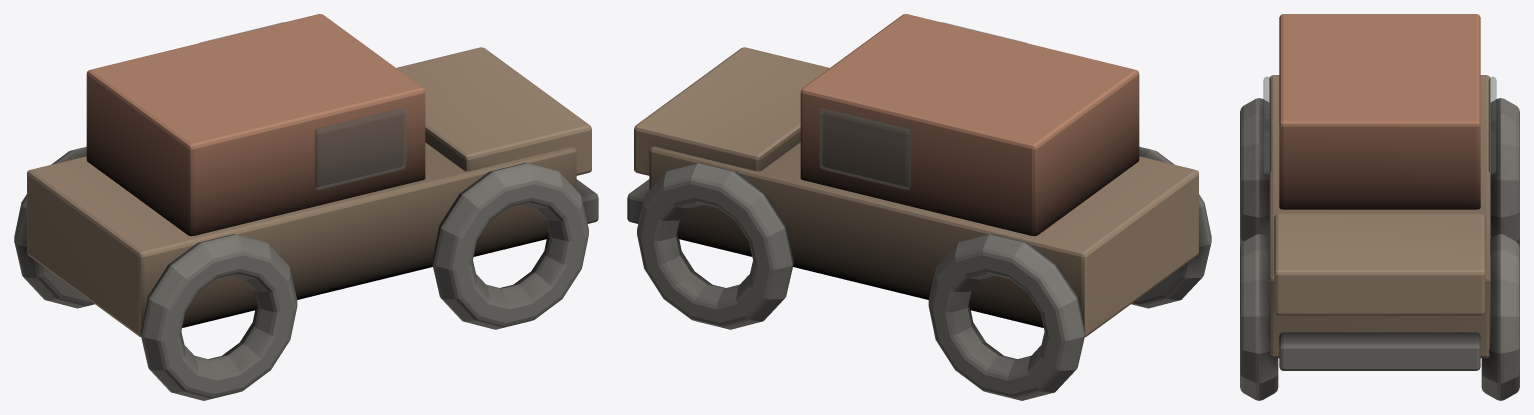
The model's file is junkcar.glb.
3 renders of one model, left to right at view 1: azimuth 30°, elevation 25°; view 2: azimuth 150°, elevation 25°; view 3: azimuth 270°, elevation 25°, orthographic. The views are drawn at different scales.
Visible parts, largest first — view 1: body; view 2: body; view 3: body.
Part boxes in pixels (x1,y1,x2,y2): body: (14,14,598,400); body: (627,14,1211,400); body: (1240,14,1519,400).
Bounding box in the file's own units: 2.57 × 1.29 × 1.39.
